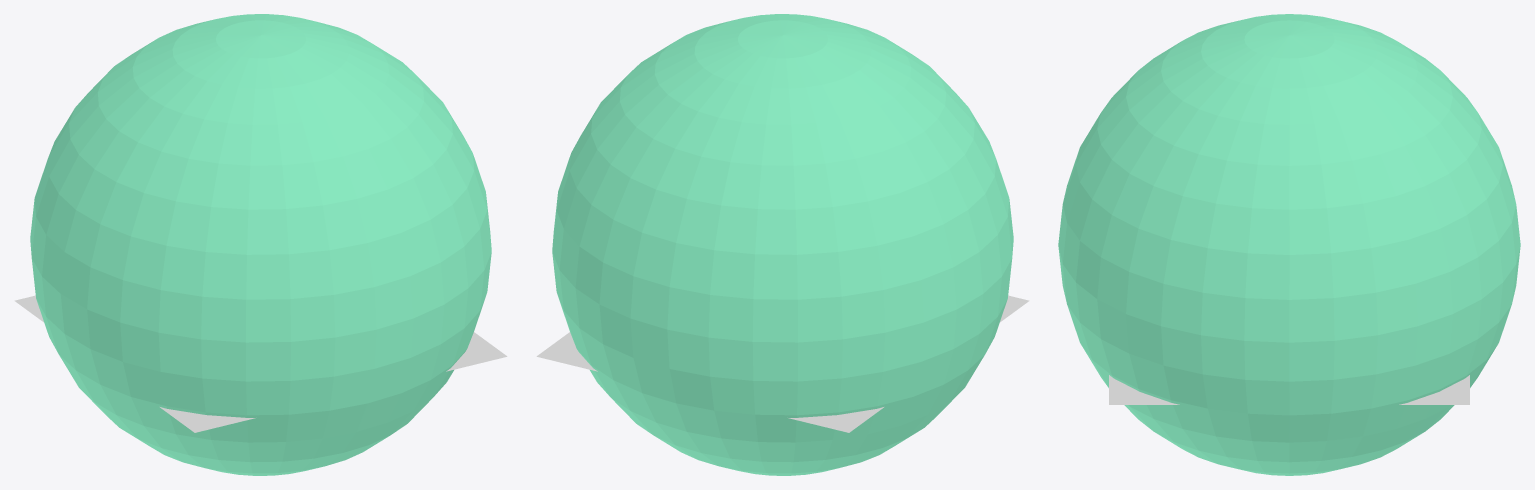
File: example-map.glb
The picture shows the model from 3 angles, left to right: view 1: azimuth 30°, elevation 25°; view 2: azimuth 150°, elevation 25°; view 3: azimuth 270°, elevation 25°; orthographic projection.
Parts seen in each view (by area): view 1: Sphere, Background; view 2: Sphere, Background; view 3: Sphere, Background.
Boxes of the visible parts, bbox=[...] form: Sphere: bbox=[30, 14, 491, 475]; Background: bbox=[14, 295, 507, 432]; Sphere: bbox=[552, 14, 1013, 475]; Background: bbox=[536, 295, 1029, 432]; Sphere: bbox=[1058, 14, 1520, 475]; Background: bbox=[1109, 375, 1469, 404].
Size of the model in its own units: 300 by 300 by 300.
